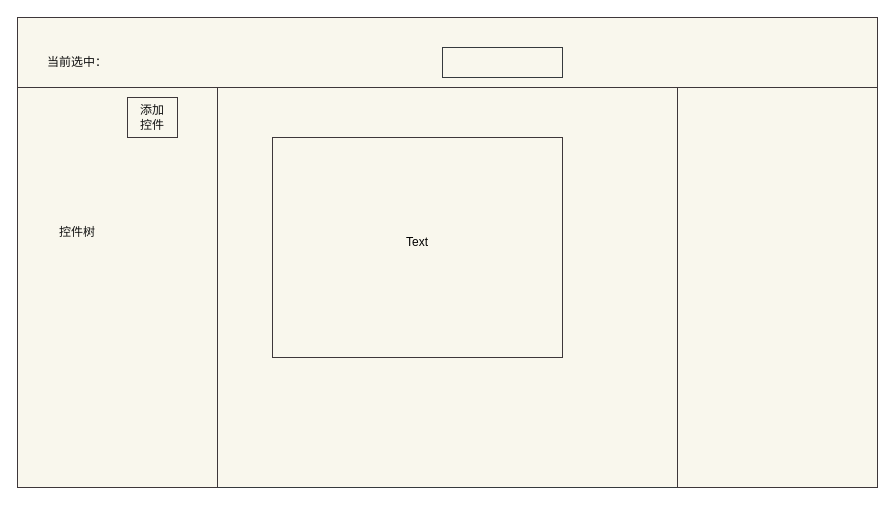
Image size: 895x505. Some labels were removed from this diagram. Each missing label, with the centre of its shape:
"500x400" belongs at (502,62).
"属性栏" belongs at (777,287).
